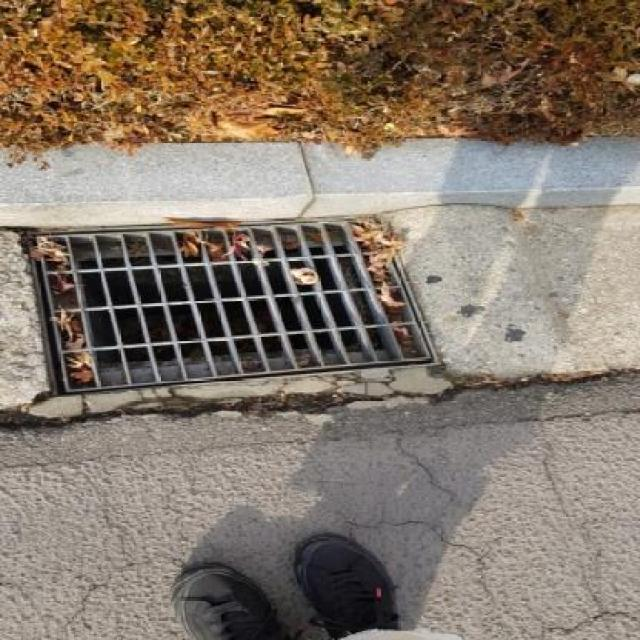Drain Hole: (27, 224, 496, 373)
